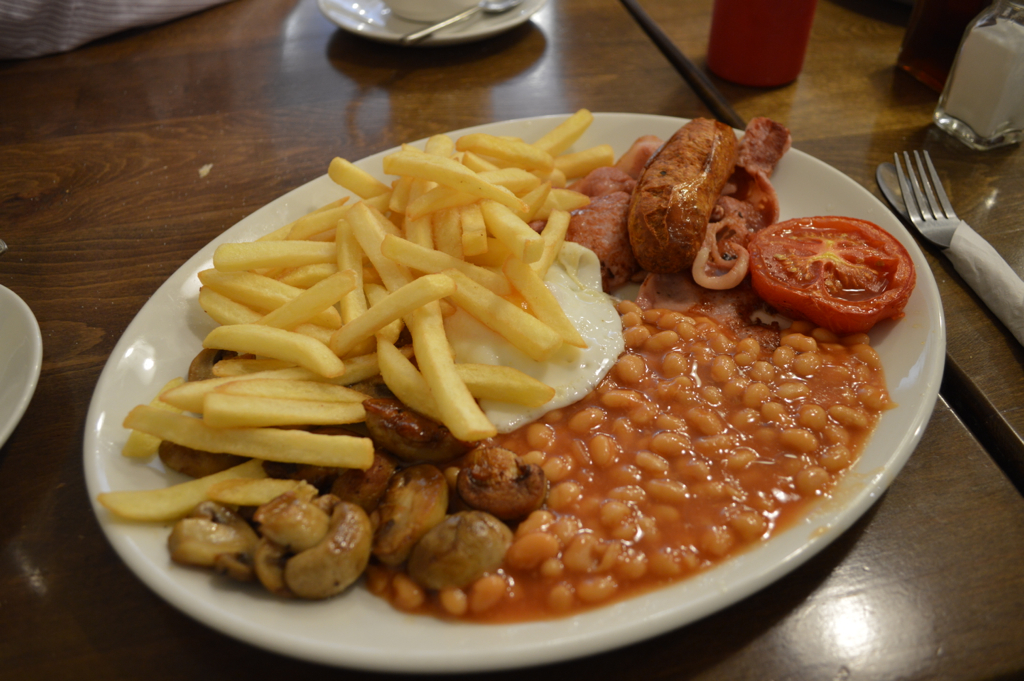French fries: (156, 146, 638, 566)
